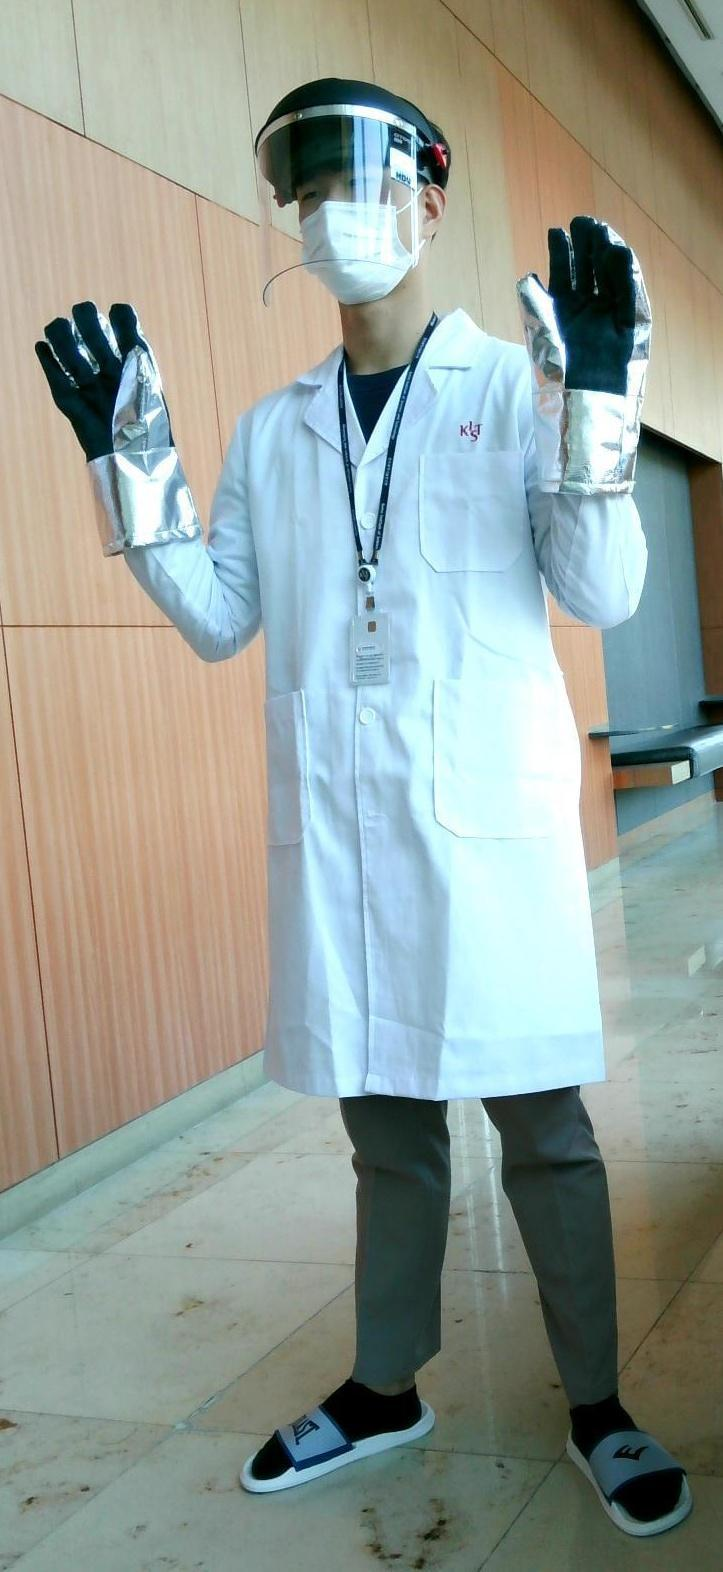lab_coat: (234, 348, 565, 1105)
